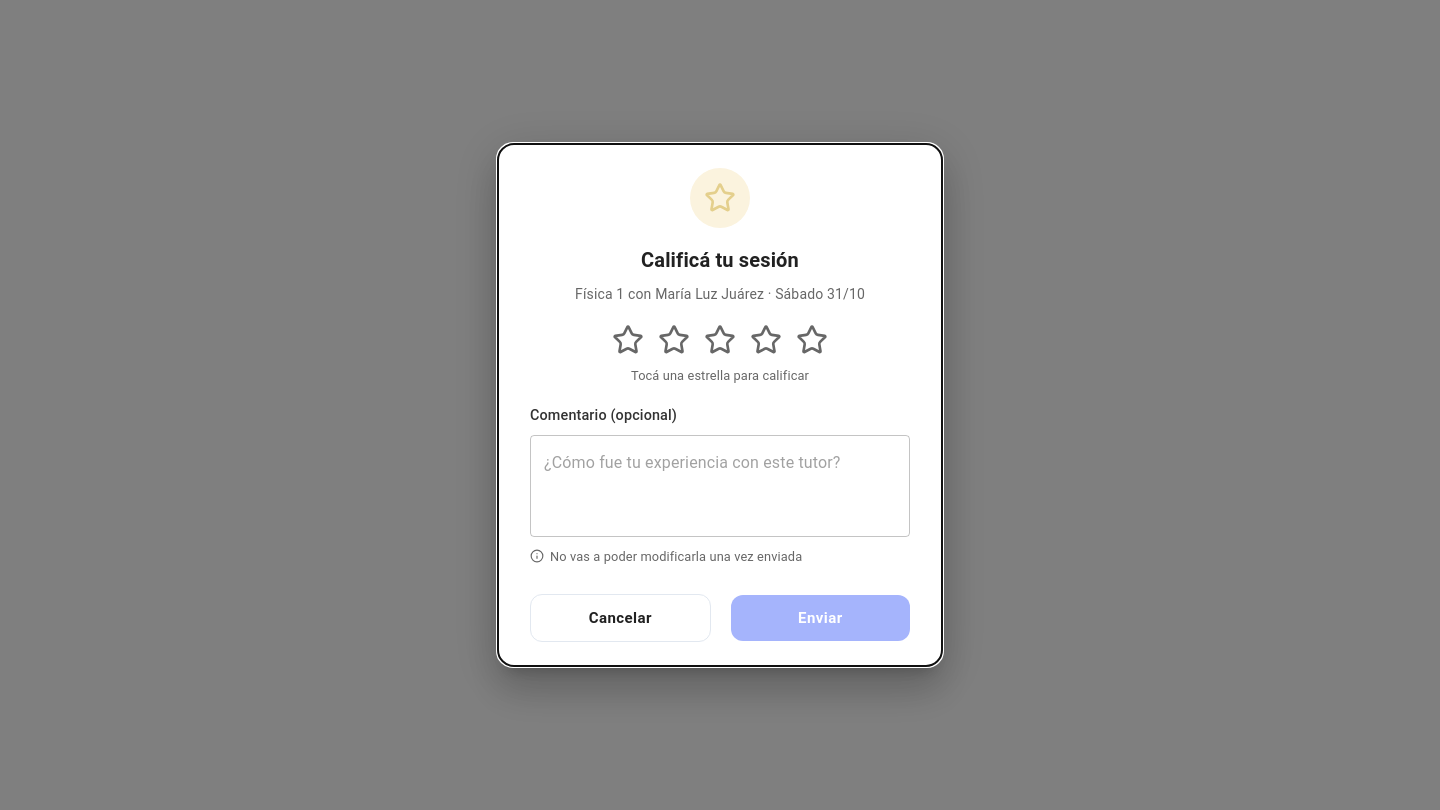
Test case: RatingPopupHost › un 422 RATING_WINDOW_EXPIRED muestra el aviso de plazo vencido
Click the radio button named "5 estrellas".
click(812, 340)  # box [792,320,832,360]
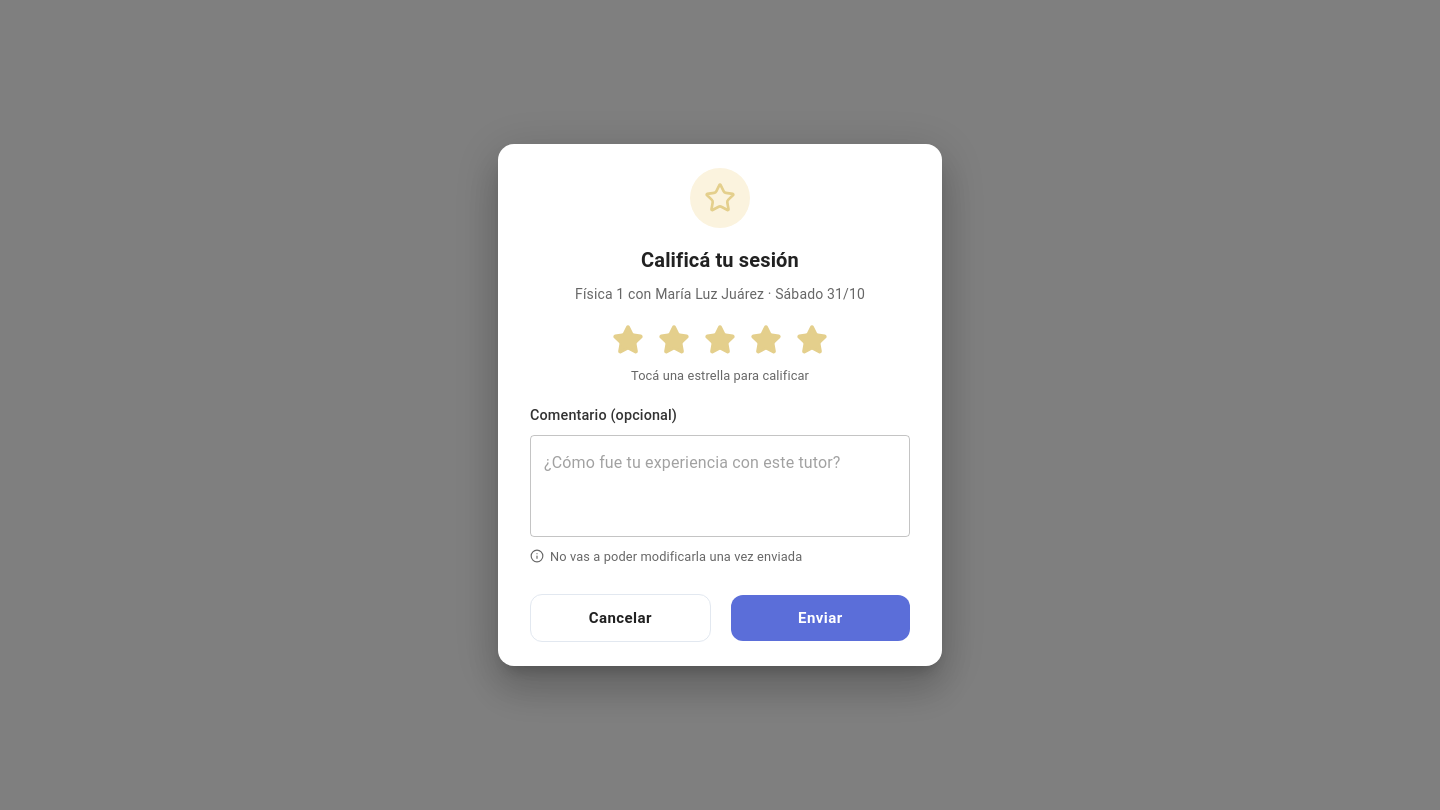
Click the button "Enviar".
click(820, 618)  # box [731,595,910,641]
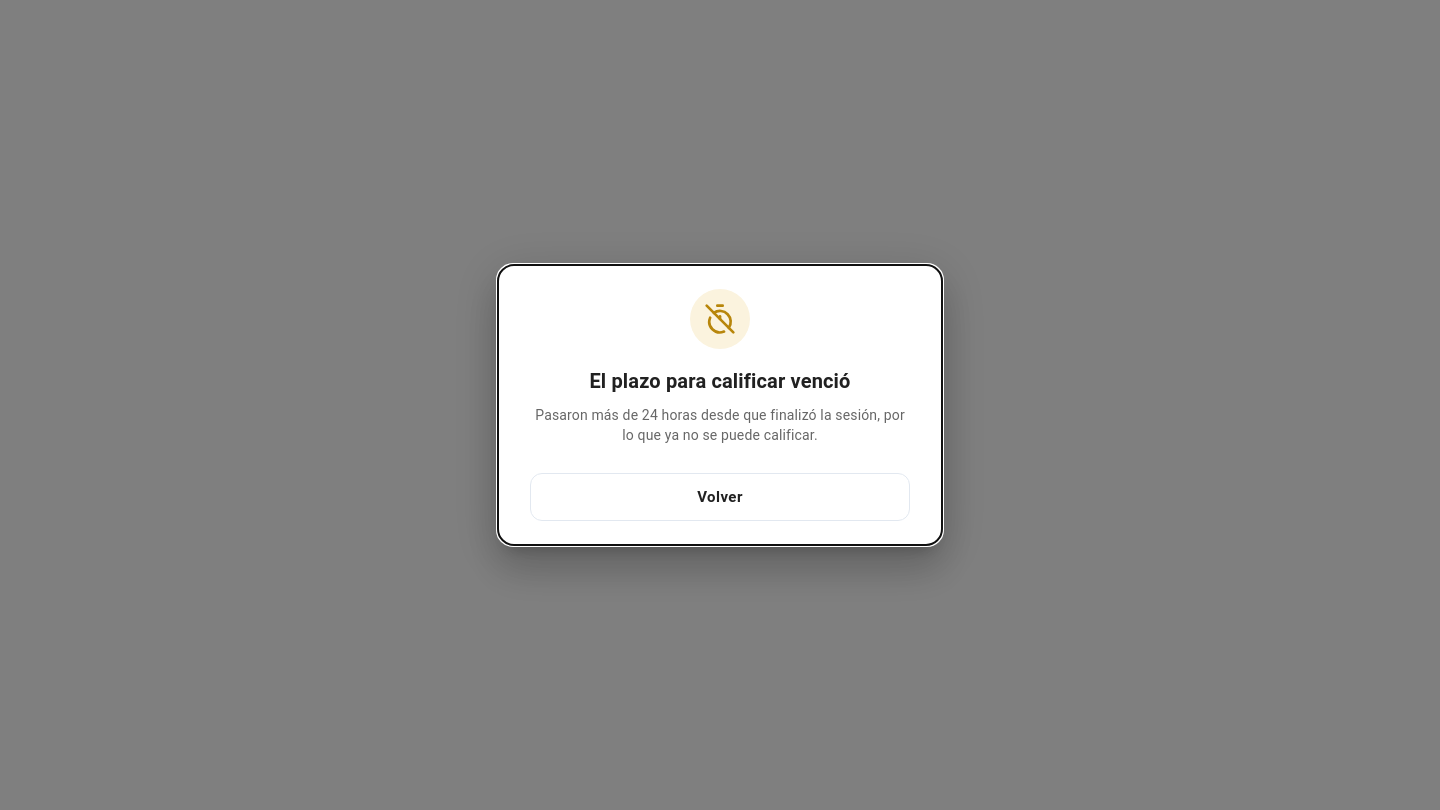
Now the heading "El plazo para calificar venció" is shown, box [590,365,851,397]
